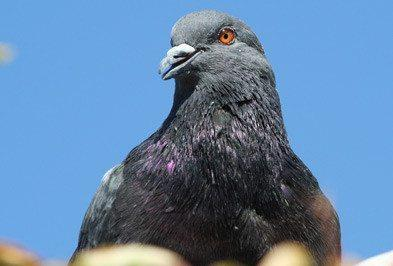Flying Rat: (82, 11, 334, 264)
